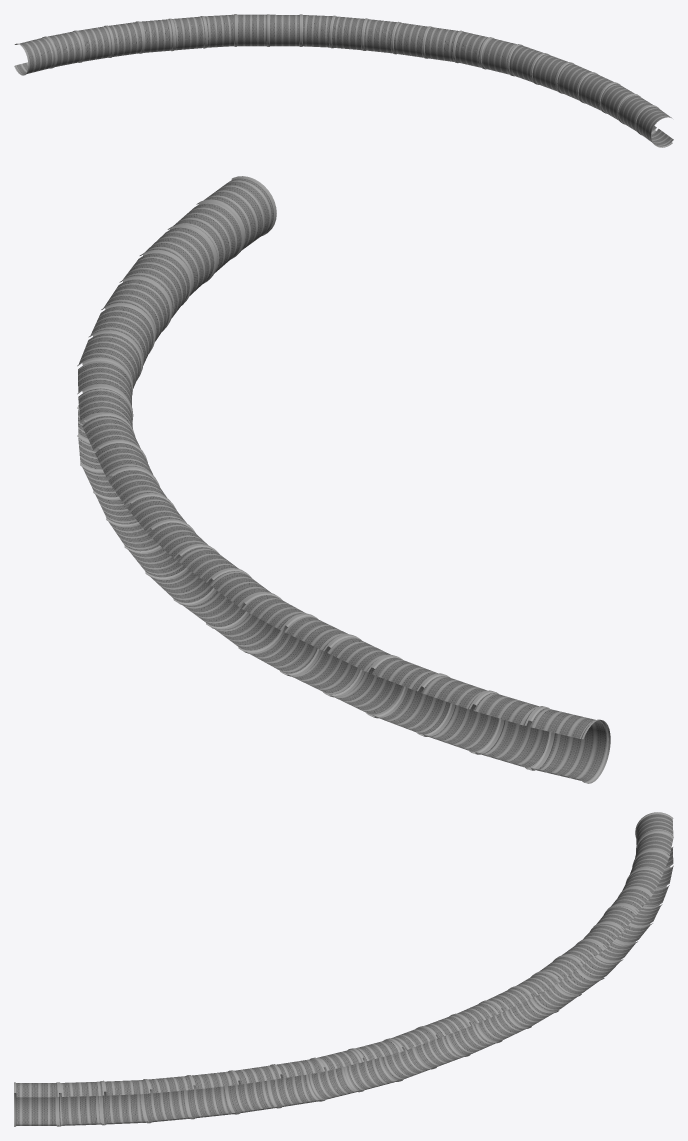
File: tubes curve.fbx
The picture shows the model from 3 angles, top to bottom: view 1: azimuth 30°, elevation 25°; view 2: azimuth 150°, elevation 25°; view 3: azimuth 270°, elevation 25°; orthographic projection. The views are drawn at different scales.
Parts seen in each view (by area): view 1: Cylinder.003; view 2: Cylinder.003; view 3: Cylinder.003.
Part boxes in pixels (bbox=[...]): Cylinder.003: bbox=[14, 14, 673, 147]; Cylinder.003: bbox=[77, 176, 610, 783]; Cylinder.003: bbox=[14, 812, 673, 1126].
Bounding box in the file's own units: 1317 × 89.05 × 1317.
Materials: 1 (1 with a texture image).
